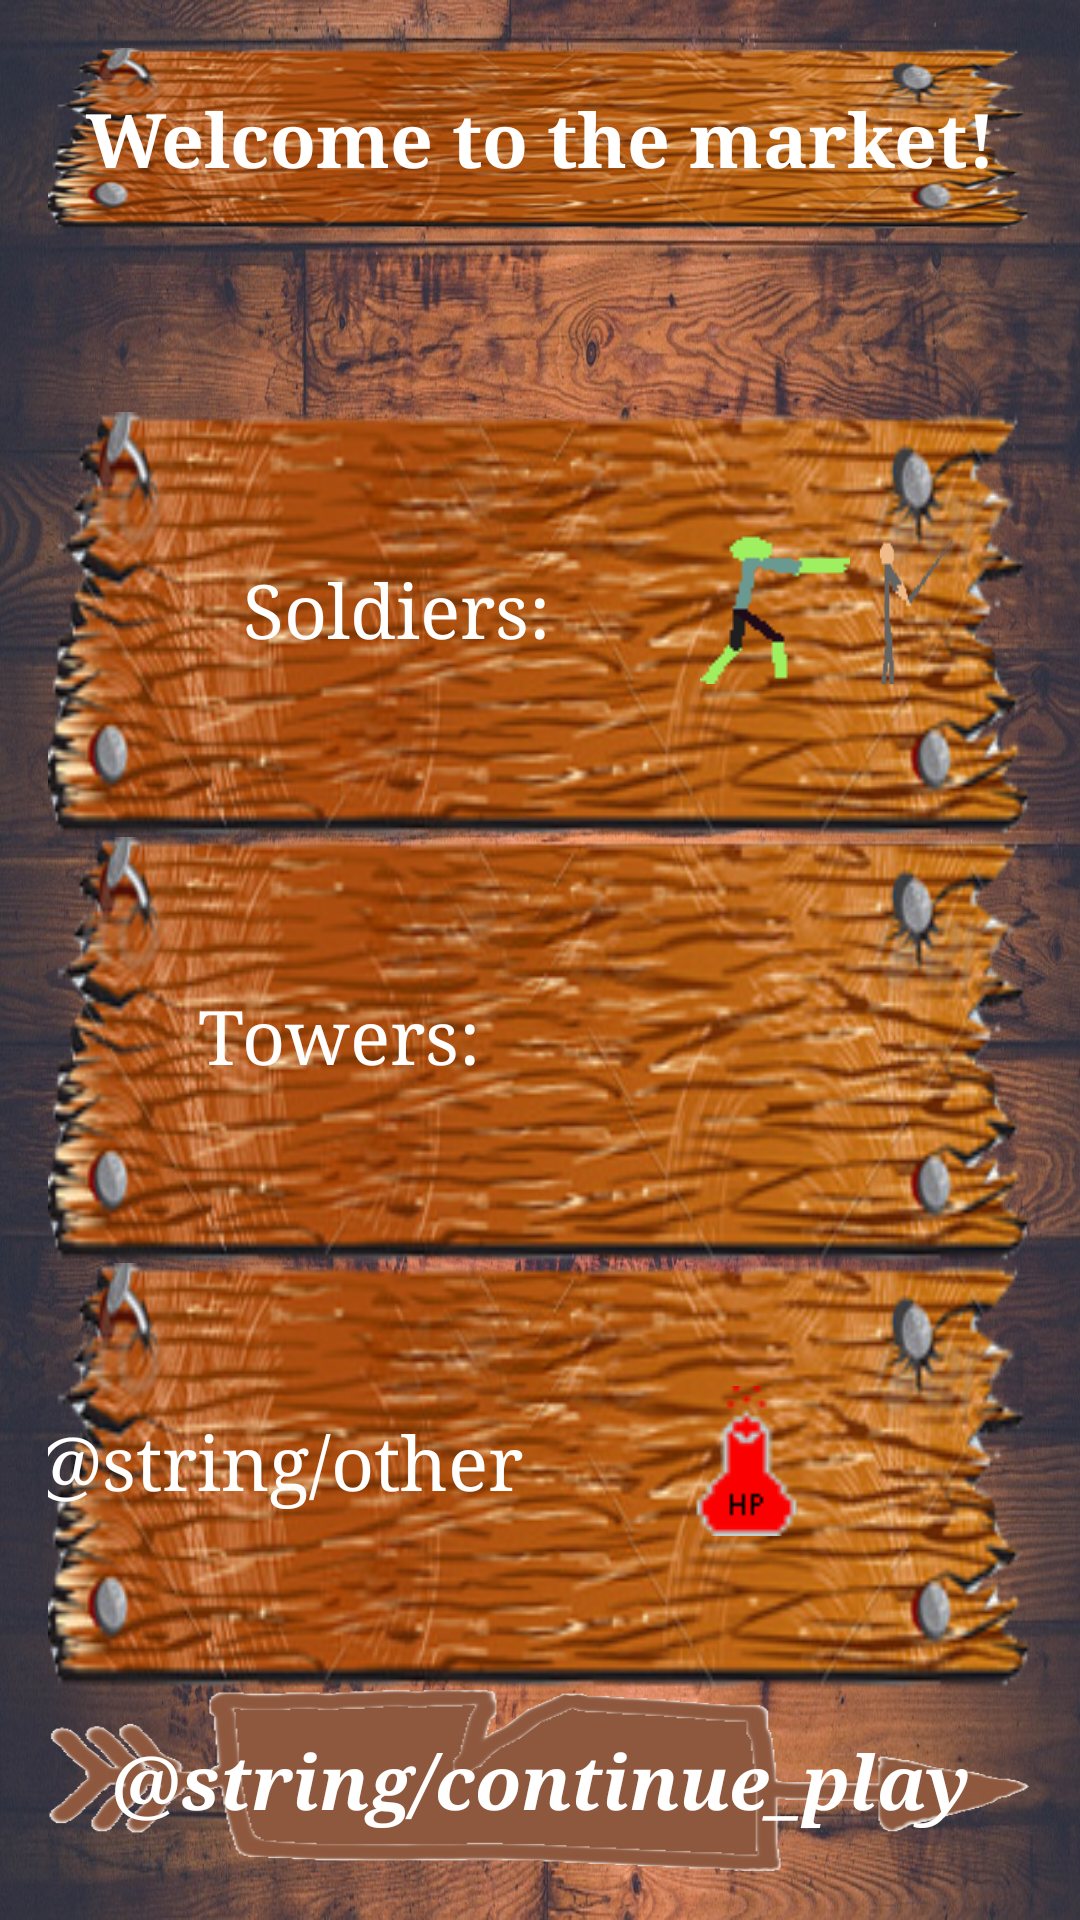

Icons on this 1080w x 1920h Android screen, each with the point to tap as [x,y]:
potion: [748,1461]
swordman: [918,609]
zombie: [775,609]
